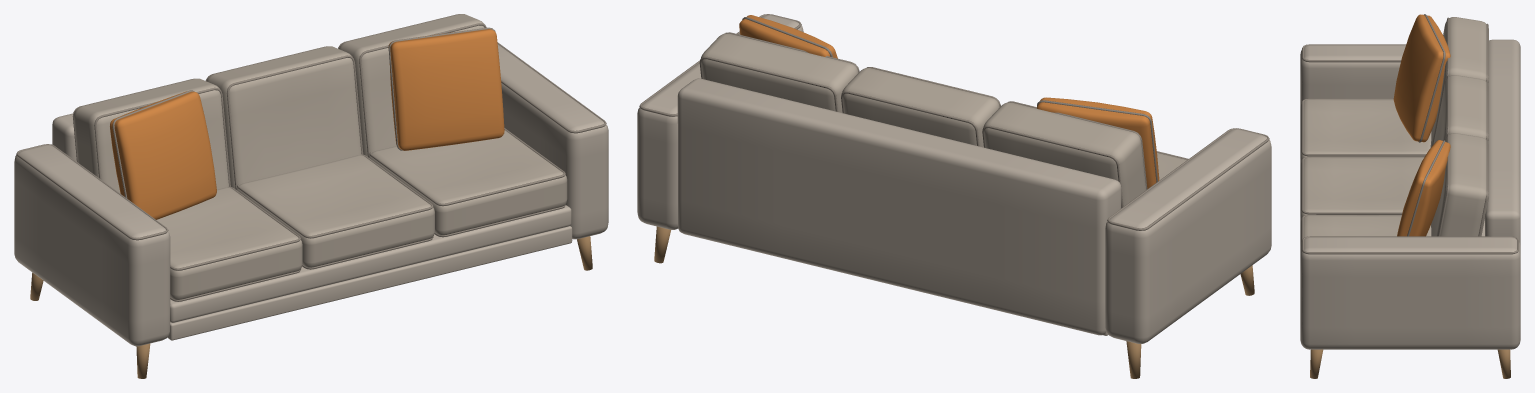
The model's file is canape-3-places-realiste.glb.
3 views of the same model, side by side, from view 1: azimuth 30°, elevation 25°; view 2: azimuth 150°, elevation 25°; view 3: azimuth 270°, elevation 25° (orthographic). The views are drawn at different scales.
Parts seen in each view (by area): view 1: canape-3-places-realiste; view 2: canape-3-places-realiste; view 3: canape-3-places-realiste.
Boxes of the visible parts, left/top/right/bottom form: canape-3-places-realiste: left=14, top=14, right=608, bottom=378; canape-3-places-realiste: left=637, top=14, right=1271, bottom=378; canape-3-places-realiste: left=1300, top=14, right=1520, bottom=378.
Bounding box in the file's own units: 2.1 × 0.8621 × 0.93.
